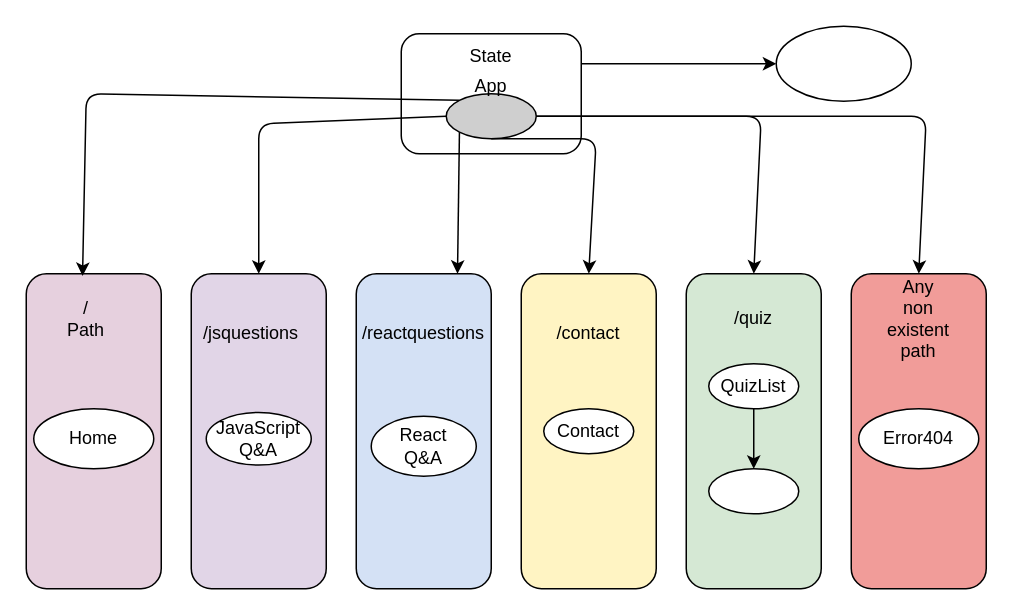
Image size: 1013x615. Some labels were removed from this diagram. The shapes that lost their labels are listed below. From the top down, each one's centre as x and y in pixels, then its label:
[843,63]: Header
[490,115]: routes
[753,490]: EachQuiz
